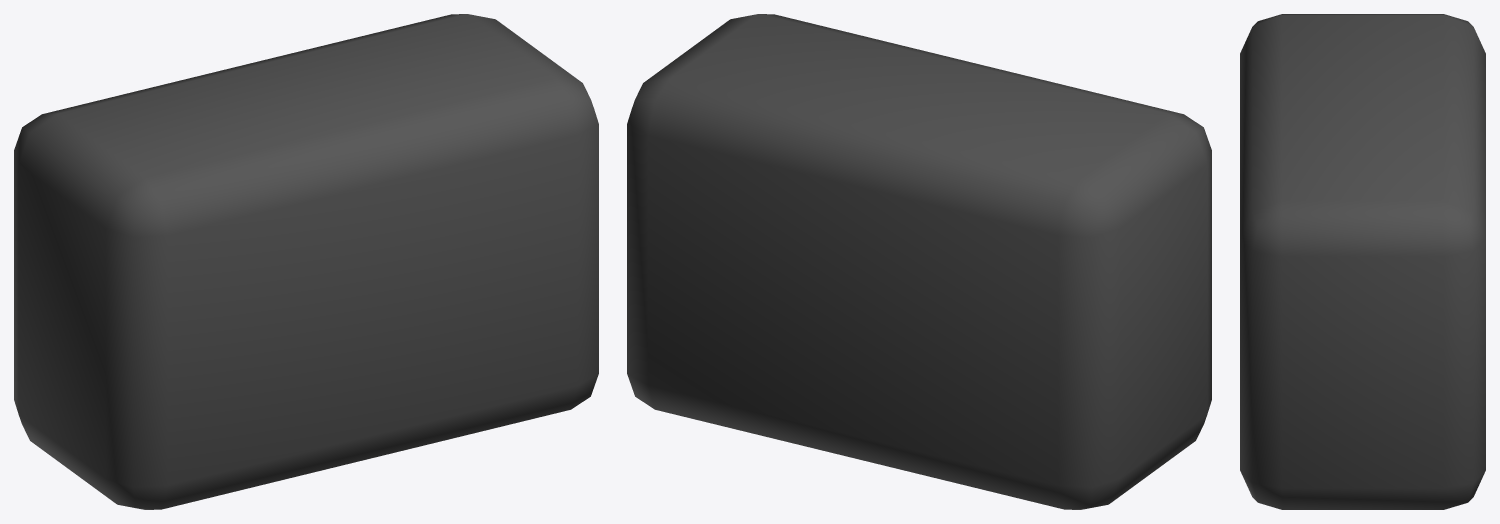
File: wallBlock2.fbx
The picture shows the model from 3 angles, left to right: view 1: azimuth 30°, elevation 25°; view 2: azimuth 150°, elevation 25°; view 3: azimuth 270°, elevation 25°; orthographic projection. The views are drawn at different scales.
Parts seen in each view (by area): view 1: wall.013; view 2: wall.013; view 3: wall.013.
Boxes of the visible parts, bbox=[...] form: wall.013: bbox=[14, 14, 598, 509]; wall.013: bbox=[627, 14, 1211, 509]; wall.013: bbox=[1240, 14, 1485, 509].
Bounding box in the file's own units: 97.61 × 63.41 × 45.9.
